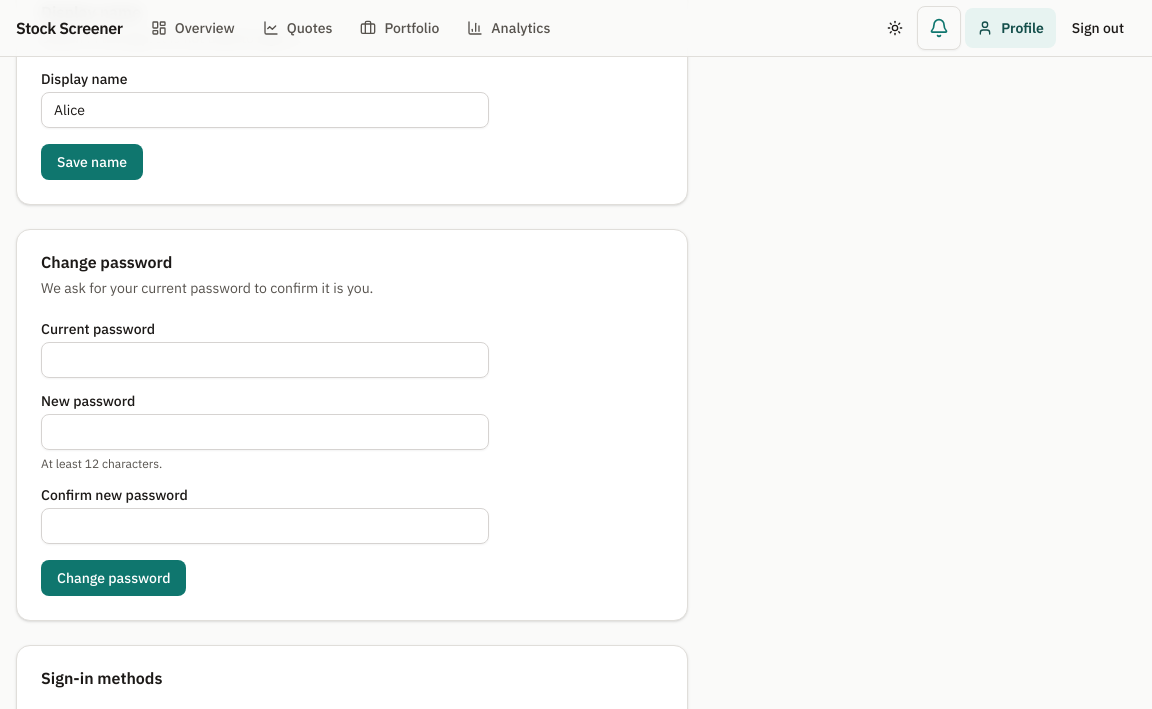
Test case: Security: password branch › changes the password, confirms and clears the fields
The image size is (1152, 709).
(page scrolled)
Expected: the password field labelled "New password" is shown, [41,414,489,450]
Type "Old-Passw0rd-1" into the password field labelled "Current password". click: coordinates (265, 360)
box: [41,342,489,378]
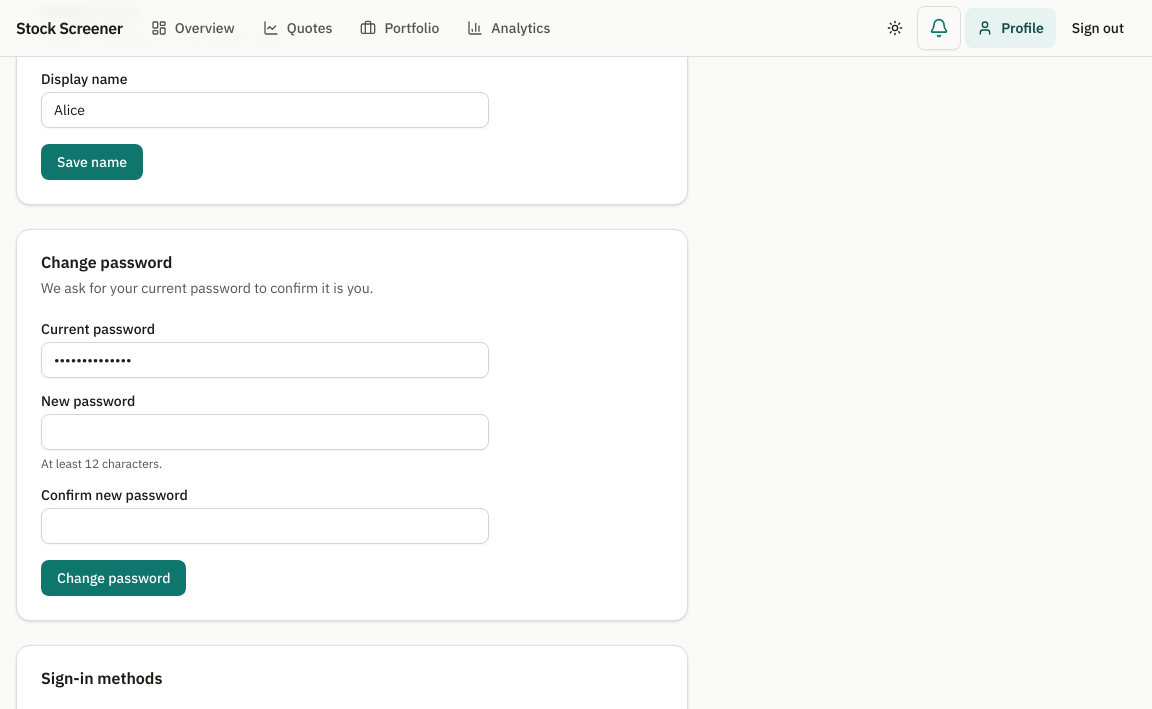
Type "New-Passw0rd-2" into the password field labelled "New password". click: coordinates (265, 432)
box: [41,414,489,450]
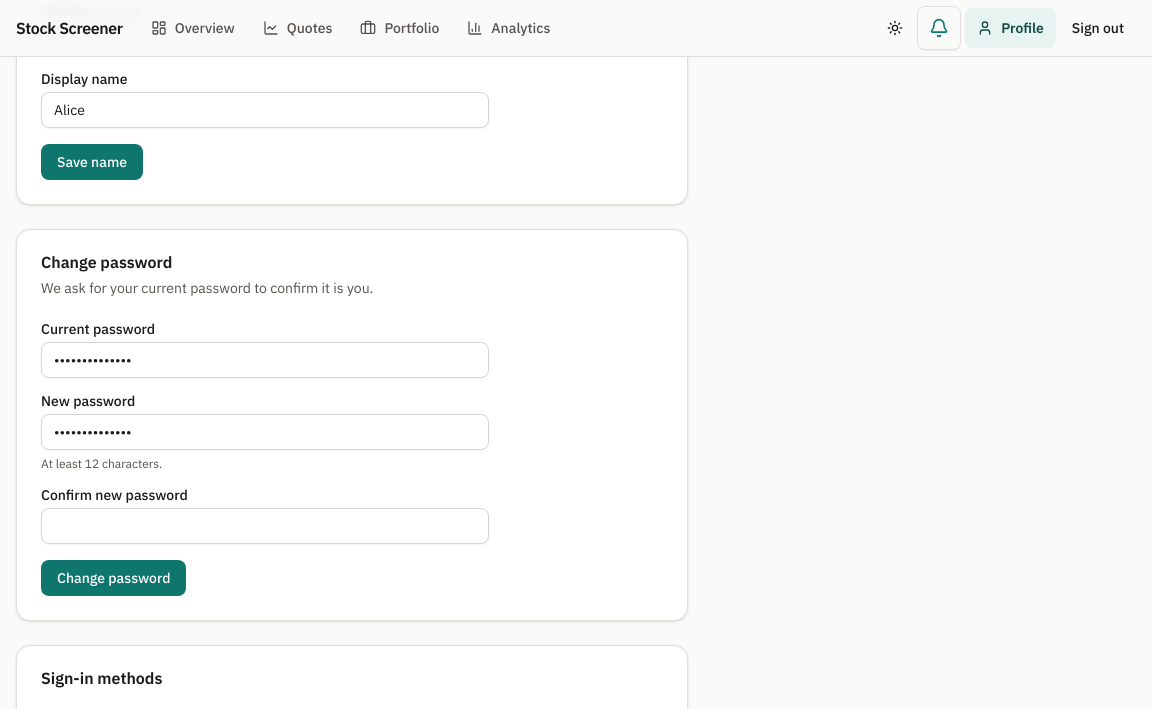
Type "New-Passw0rd-2" into the password field labelled "Confirm new password". click: coordinates (265, 526)
box: [41,508,489,544]
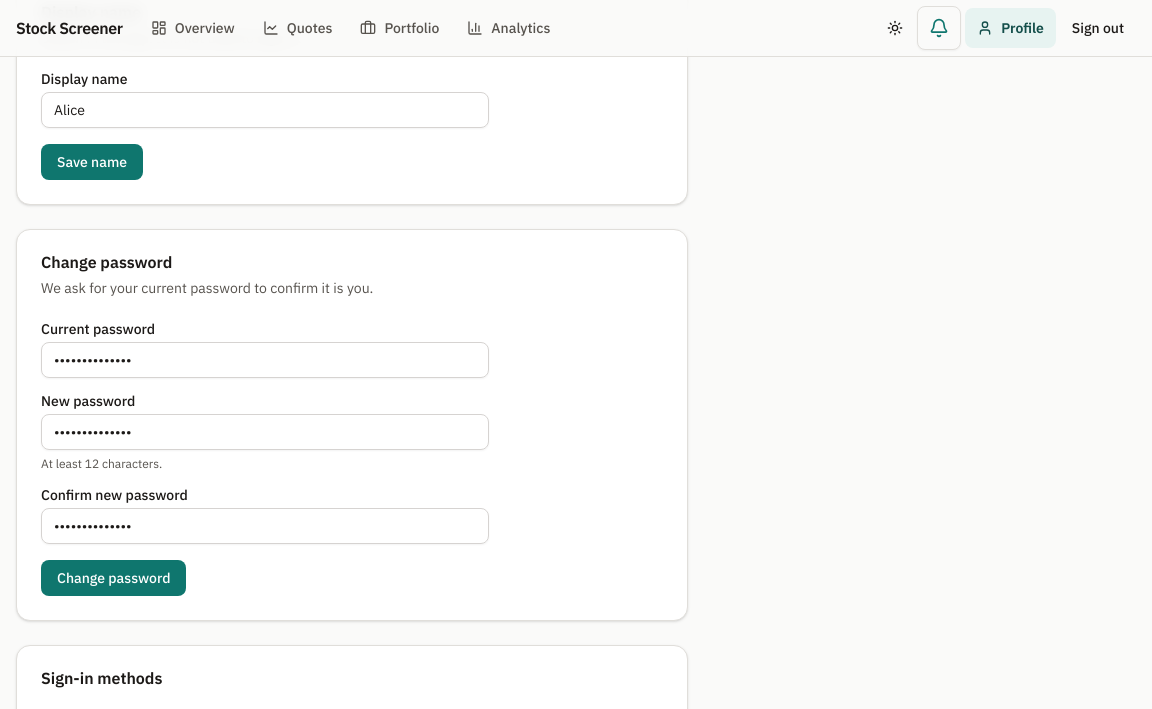
Submit the form named "Change password", box [41,322,489,596]
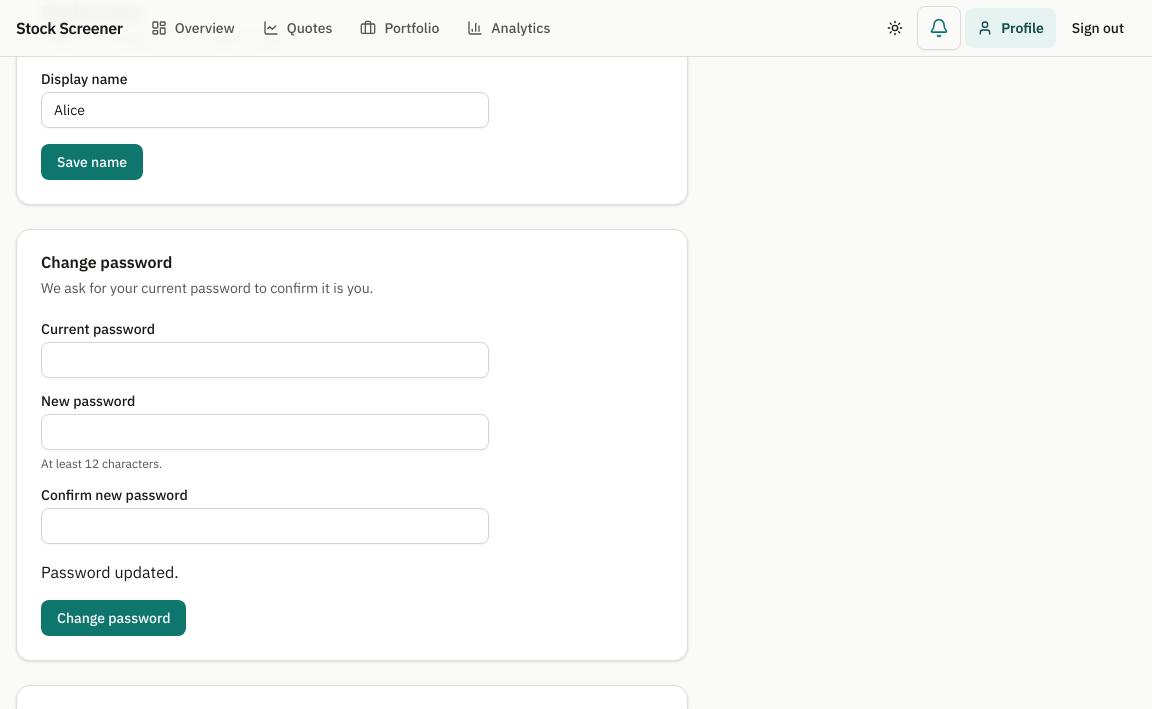
Now the text "Password updated." is shown, box [41,562,179,582]
Now the password field labelled "New password" is empty, box [41,414,489,450]
